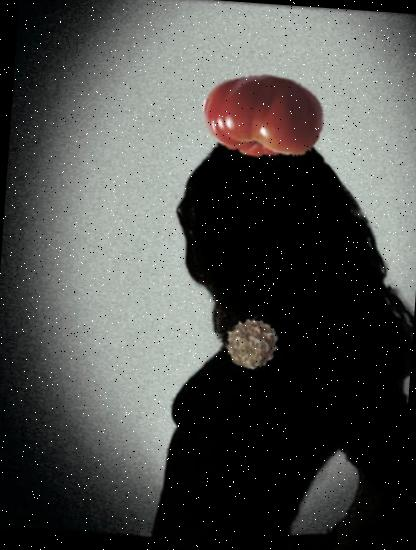Pineapple: (222, 313, 282, 373)
Tomato: (198, 50, 329, 182)
